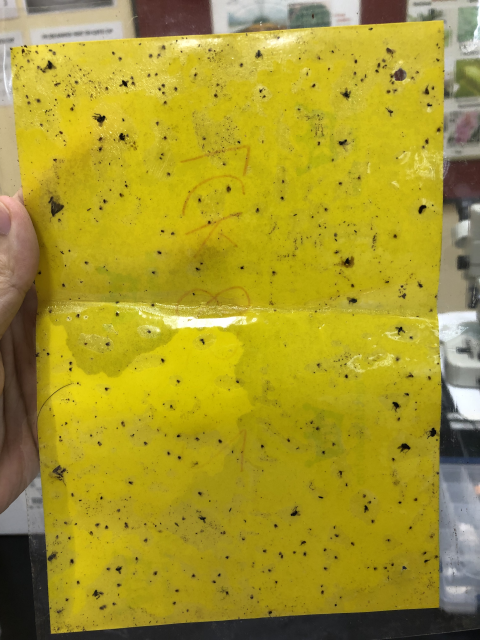DBM: (47, 199, 67, 222)
